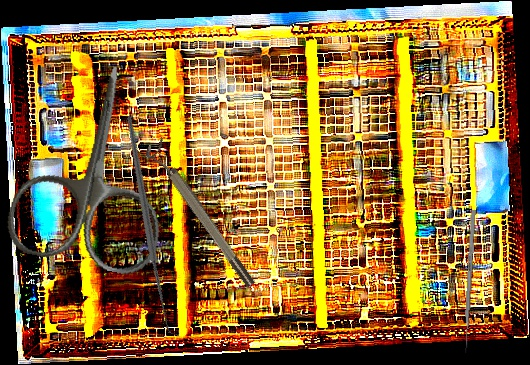Fixation Ring: (141, 137, 259, 294)
Hook Surgical: (63, 115, 244, 337)
Iris Scissors: (0, 51, 193, 280)
Pusher: (463, 209, 476, 354)
